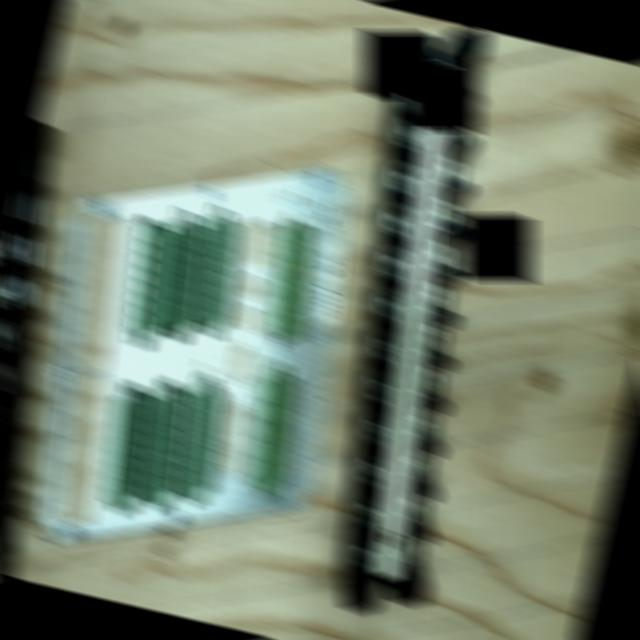Flathead_Block: (342, 19, 487, 620)
Terminal_1: (251, 371, 294, 493), (269, 218, 311, 342)
Terminal_2: (140, 387, 182, 504), (157, 216, 199, 333), (177, 383, 218, 500), (194, 213, 235, 328), (104, 391, 144, 508)
